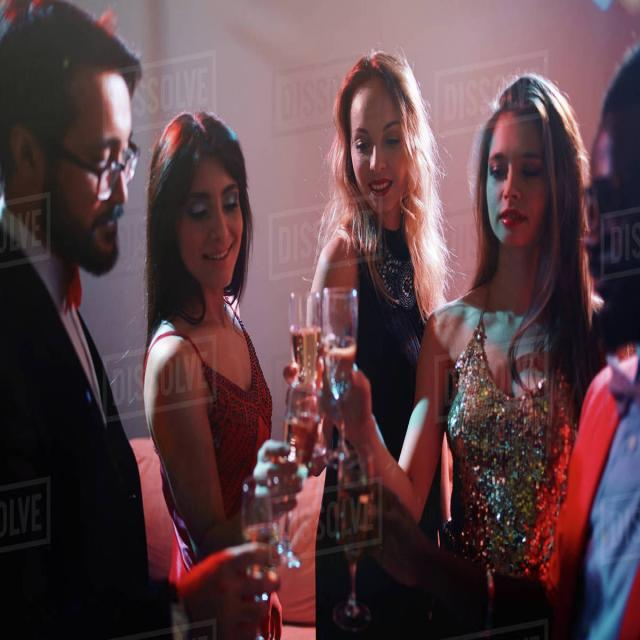body: (323, 61, 594, 639), (282, 43, 458, 639), (139, 106, 305, 640), (138, 105, 283, 640), (524, 69, 602, 640)
